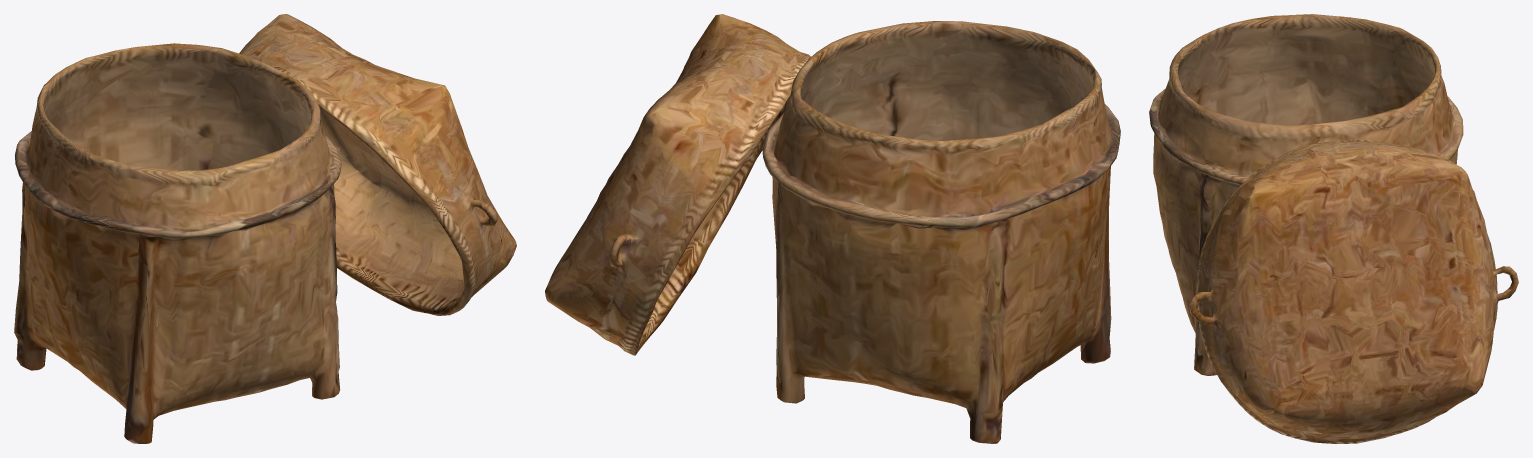
The model's file is wicker-basket-02.glb.
3 views of the same model, side by side, from view 1: azimuth 30°, elevation 25°; view 2: azimuth 150°, elevation 25°; view 3: azimuth 270°, elevation 25° (orthographic). The views are drawn at different scales.
Visible parts, largest first — view 1: wicker_basket_02; view 2: wicker_basket_02; view 3: wicker_basket_02.
Boxes of the visible parts, box(x1,y1,x2,y2) form: wicker_basket_02: box(14, 14, 516, 443); wicker_basket_02: box(545, 14, 1120, 443); wicker_basket_02: box(1149, 14, 1518, 443).
Bounding box in the file's own units: 0.3469 × 0.2005 × 0.2542.
1 material, 1 textured.
